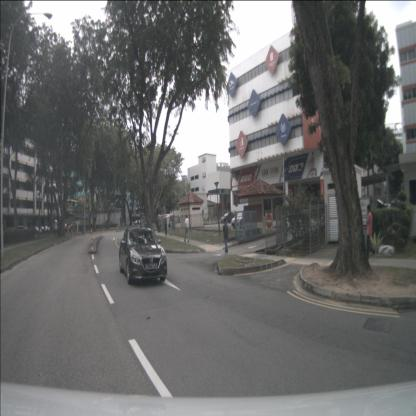human-pedestrian-adult: (365, 204, 375, 261), (222, 218, 229, 253), (184, 215, 189, 242), (163, 214, 169, 236), (168, 218, 172, 236), (53, 222, 57, 237)
vehicle-car: (119, 228, 167, 286), (232, 212, 248, 228), (221, 212, 236, 223), (32, 226, 42, 235), (39, 226, 48, 234), (42, 226, 50, 233)
